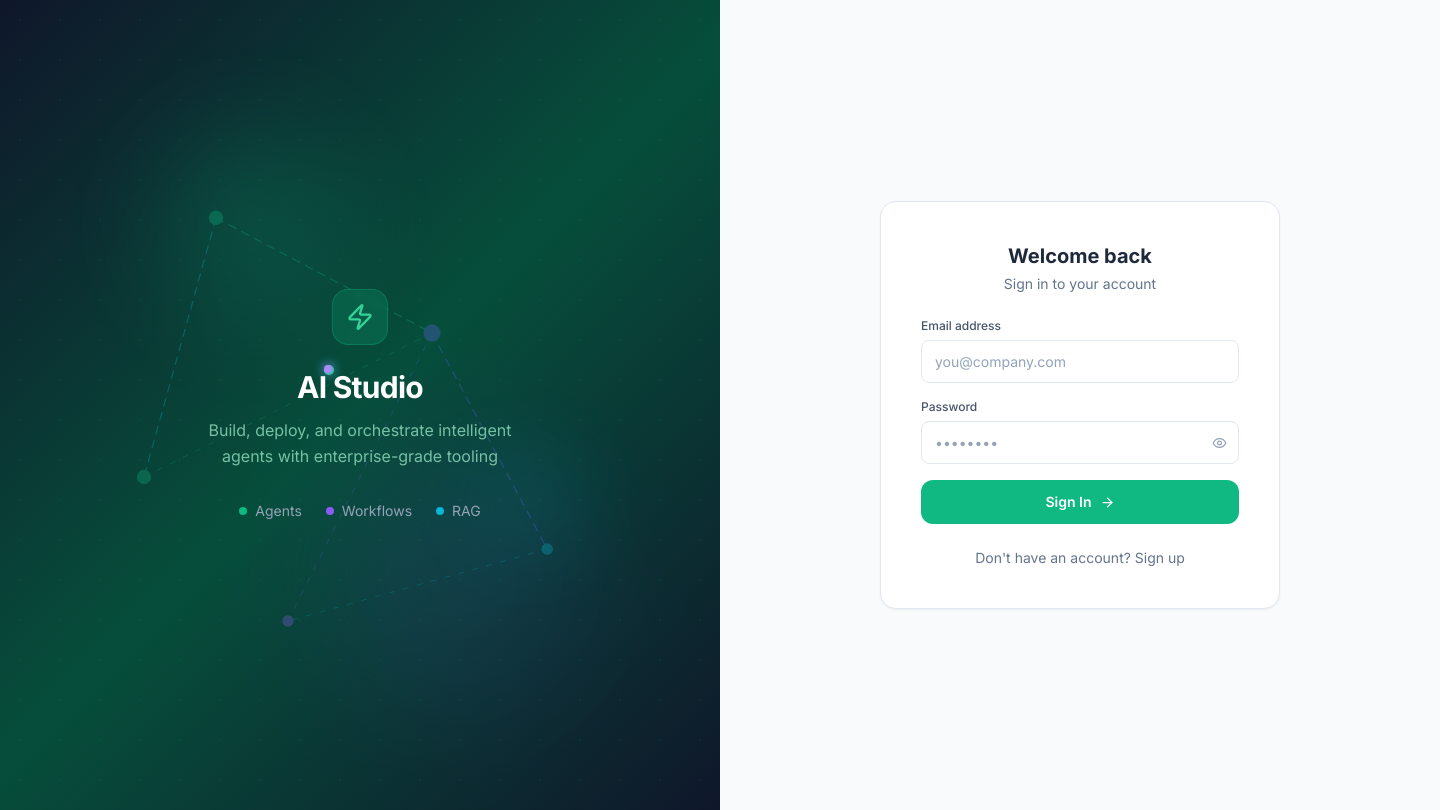
Test case: LoginPage › shows error on failed login (401 response)
The width and height of the screenshot is (1440, 810).
Type "test@test.com" into the field with placeholder "you@company.com" at (1080, 362), box [921, 340, 1239, 383]
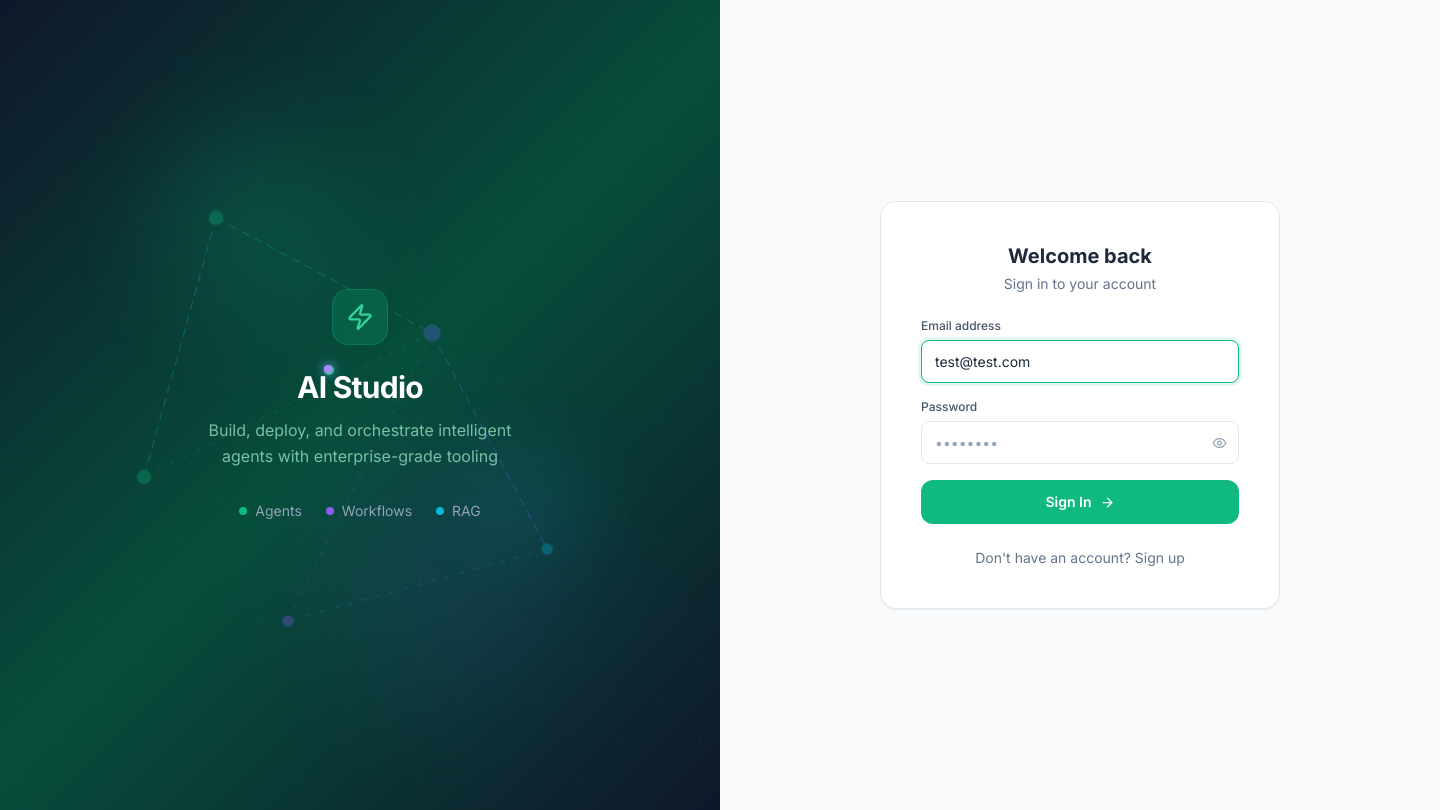
Type "wrongpass" into the password field with placeholder "••••••••" at (1080, 442), box [921, 421, 1239, 464]
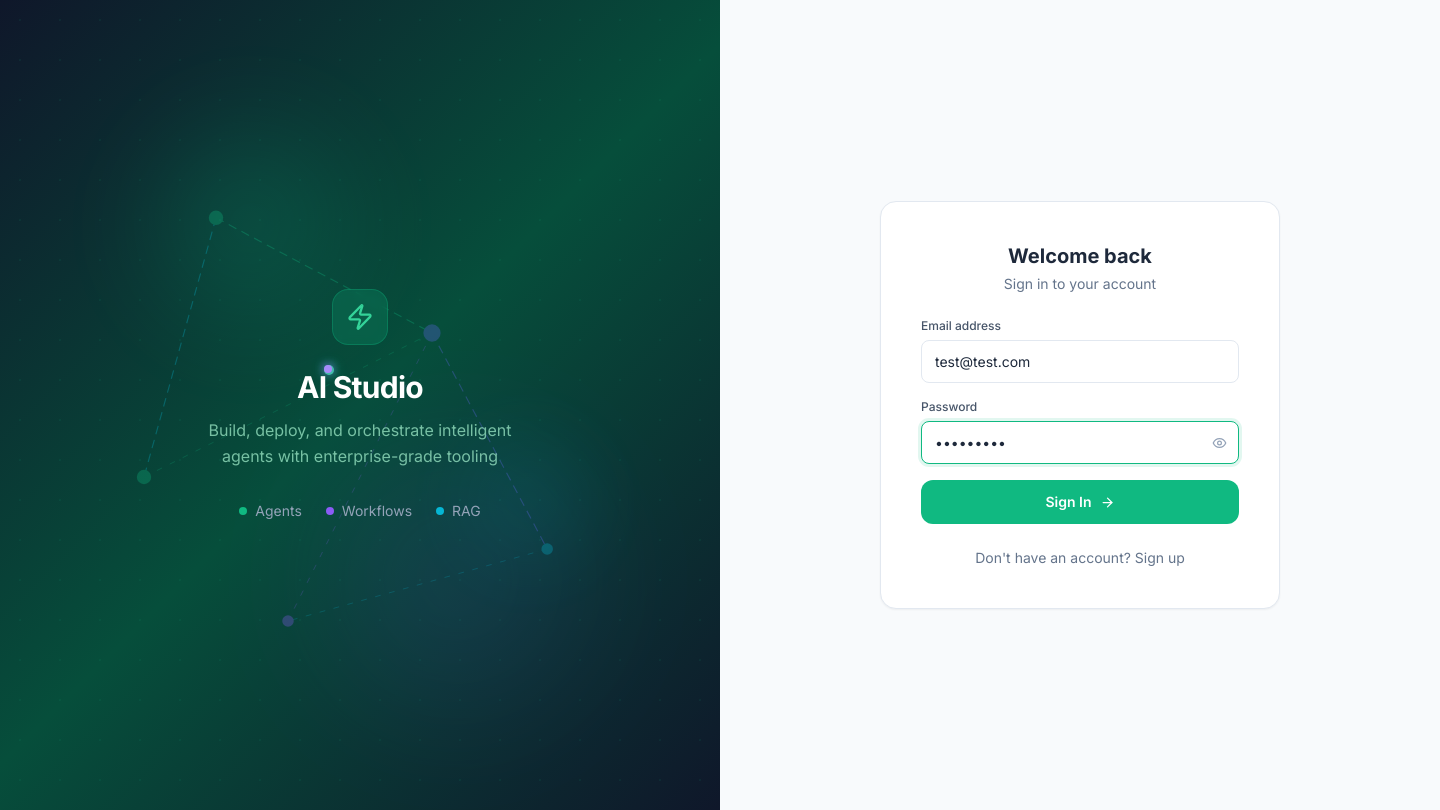
Click the button "Sign In" at (1080, 502), box [921, 480, 1239, 524]
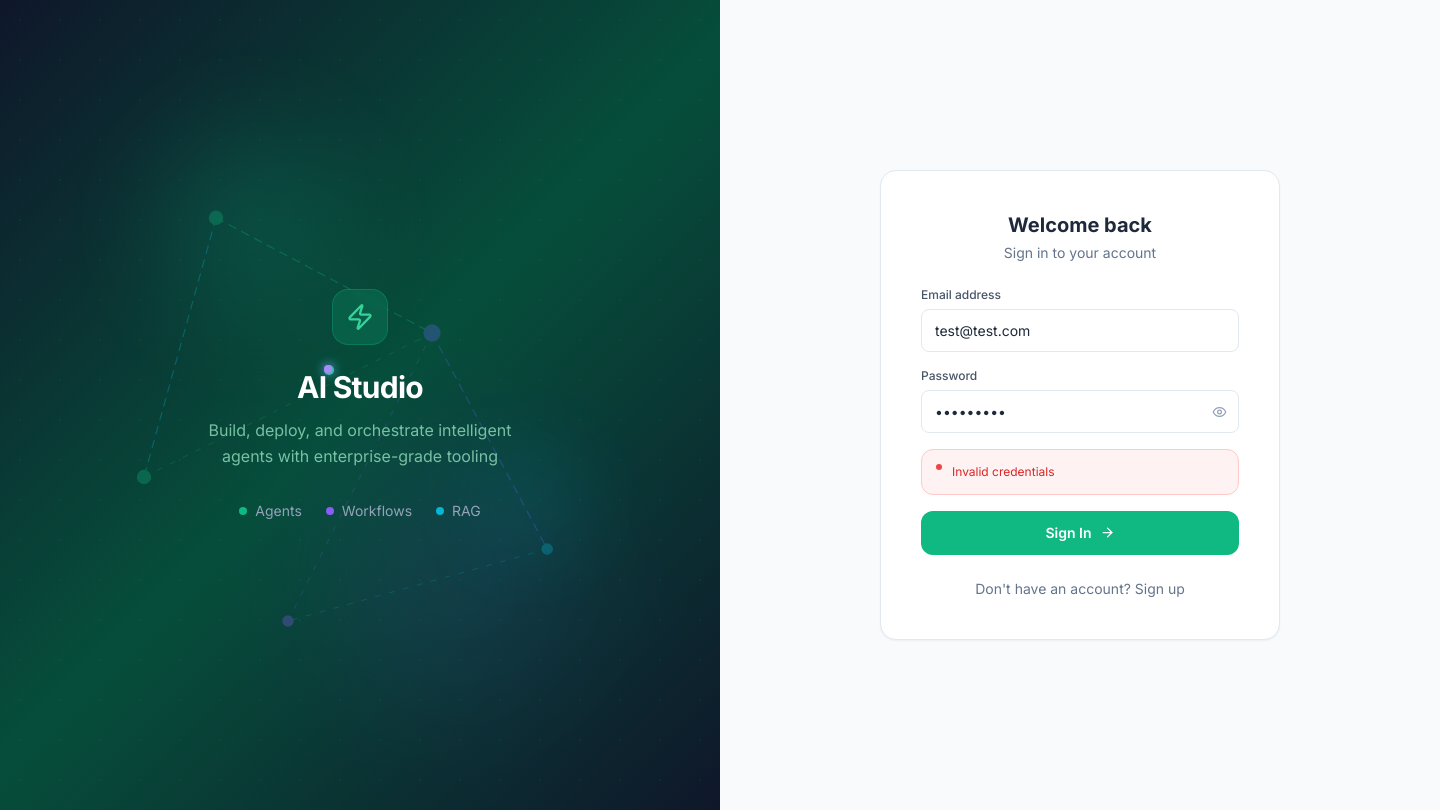
Expected: the text "Invalid credentials" is shown, [952, 462, 1054, 482]
